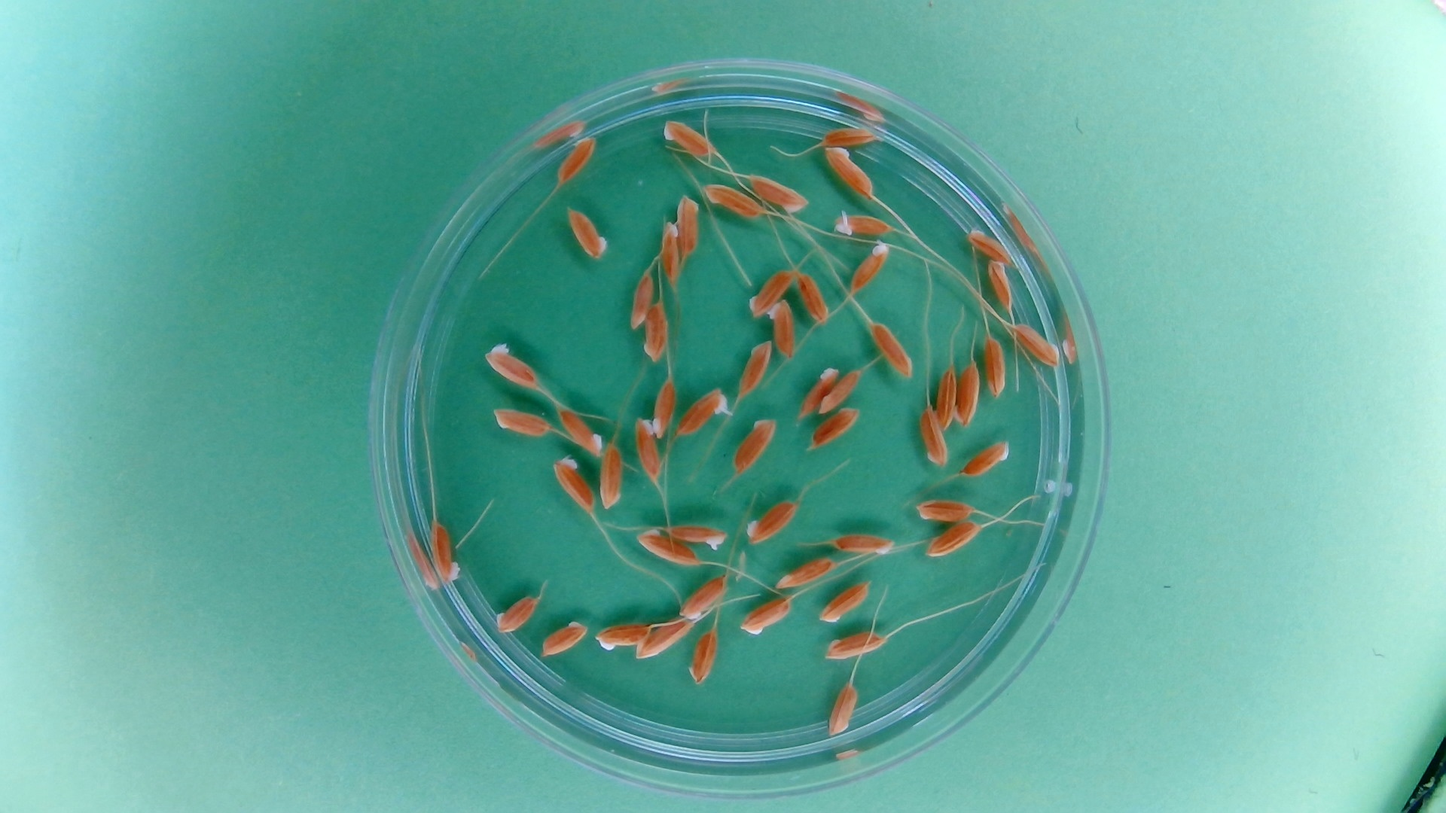no: (822, 143, 876, 199), (868, 318, 916, 379), (482, 341, 540, 391), (732, 416, 779, 476), (747, 172, 810, 216), (745, 497, 800, 546), (633, 527, 700, 567), (746, 264, 795, 318), (551, 455, 596, 513), (816, 365, 864, 419), (564, 204, 610, 260), (700, 181, 767, 219), (557, 405, 605, 458), (1011, 319, 1064, 367), (634, 617, 694, 659), (796, 363, 839, 421), (818, 579, 873, 624), (848, 239, 892, 295), (554, 133, 599, 187), (923, 519, 983, 559), (735, 337, 773, 400), (660, 116, 716, 158), (428, 518, 462, 586), (740, 595, 795, 636), (679, 574, 729, 619), (773, 557, 837, 591), (822, 629, 889, 661), (959, 439, 1012, 479), (632, 416, 663, 483), (491, 405, 553, 438), (919, 406, 951, 469), (540, 618, 590, 658), (766, 297, 797, 361), (954, 359, 983, 427), (965, 226, 1014, 266), (640, 298, 670, 363), (826, 680, 860, 737), (796, 270, 830, 326), (493, 594, 540, 634), (598, 442, 625, 510), (663, 521, 728, 549), (982, 330, 1009, 397), (593, 621, 653, 651), (648, 376, 676, 440), (626, 268, 654, 331), (932, 364, 958, 431), (687, 629, 718, 685), (818, 123, 882, 150), (914, 497, 978, 524), (985, 258, 1014, 317), (674, 193, 701, 256), (830, 530, 895, 556), (658, 218, 682, 283)
yes: (676, 387, 731, 437), (831, 209, 894, 238)
